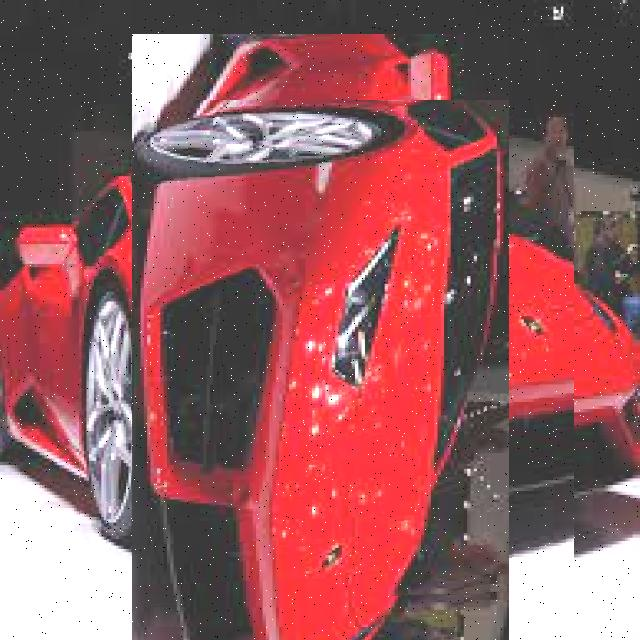car: (67, 101, 575, 609)
